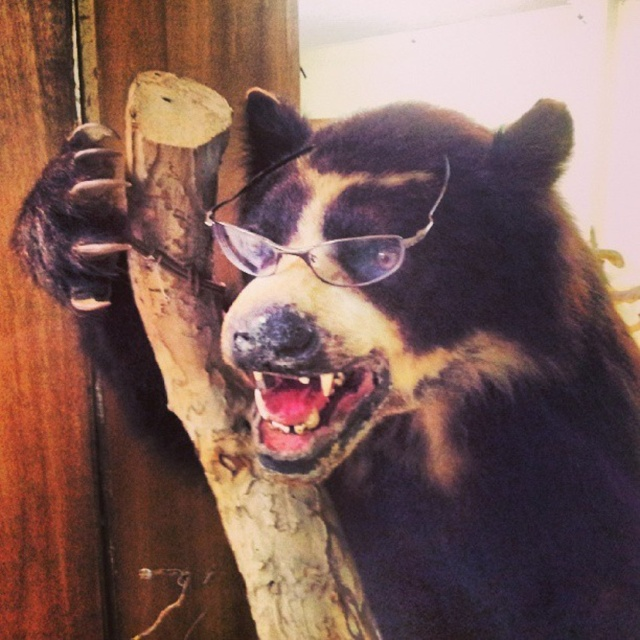Bear: (10, 97, 639, 639)
